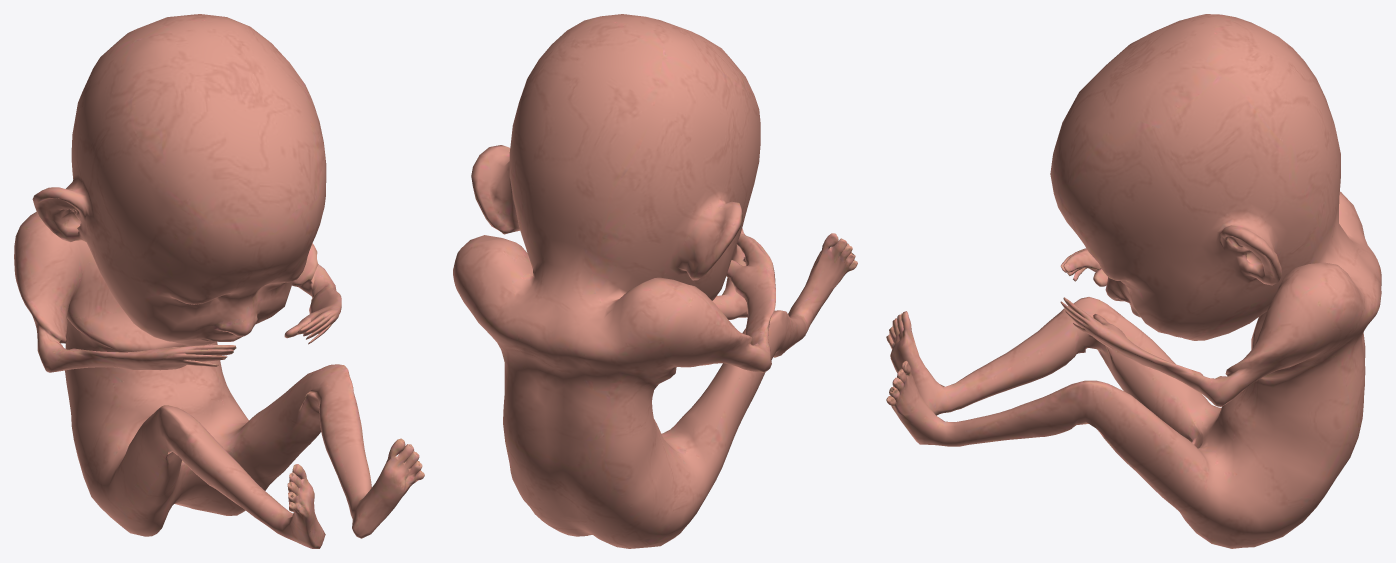
3 renders of one model, left to right at view 1: azimuth 30°, elevation 25°; view 2: azimuth 150°, elevation 25°; view 3: azimuth 270°, elevation 25°, orthographic.
Visible parts, largest first — view 1: Baby; view 2: Baby; view 3: Baby.
Boxes of the visible parts, <box> form: Baby: <box>14,14,424,548</box>; Baby: <box>453,14,857,548</box>; Baby: <box>886,14,1381,548</box>.
Size of the model in its own units: 0.0645 by 0.1065 by 0.0954.
1 material, 1 textured.
